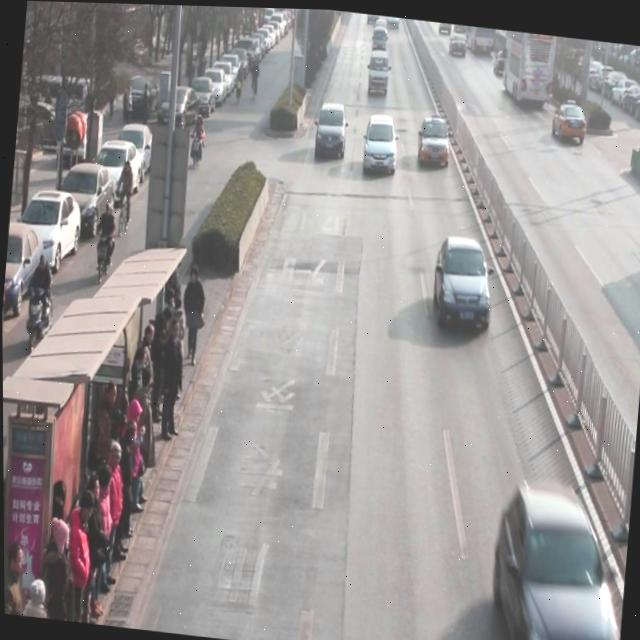car: (485, 475, 621, 640), (428, 232, 495, 333), (360, 111, 399, 176), (312, 97, 348, 160), (415, 113, 451, 166), (548, 98, 587, 141), (491, 45, 512, 74), (447, 29, 467, 56)
truck: (365, 45, 390, 96), (370, 23, 388, 59)
van: (498, 27, 552, 102)
